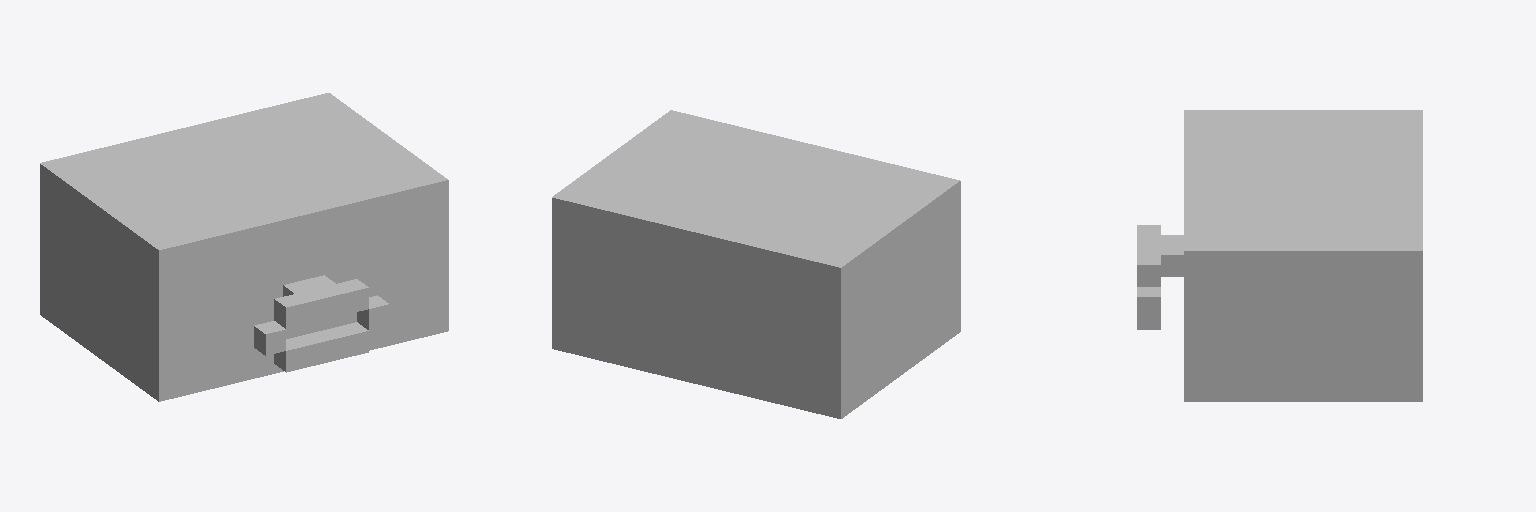
Rendered from health.obj.
3 views of the same model, side by side, from view 1: azimuth 30°, elevation 25°; view 2: azimuth 150°, elevation 25°; view 3: azimuth 270°, elevation 25° (orthographic).
Parts seen in each view (by area): view 1: object 1; view 2: object 1; view 3: object 1.
Part boxes in pixels (x1,y1,x2,y2): object 1: (40,93,448,401); object 1: (552,110,960,418); object 1: (1137,110,1422,401).
Size of the model in its own units: 1.4 by 0.7 by 1.2.